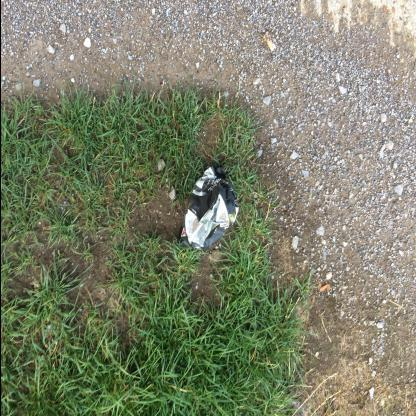plastik: (178, 168, 240, 252)
